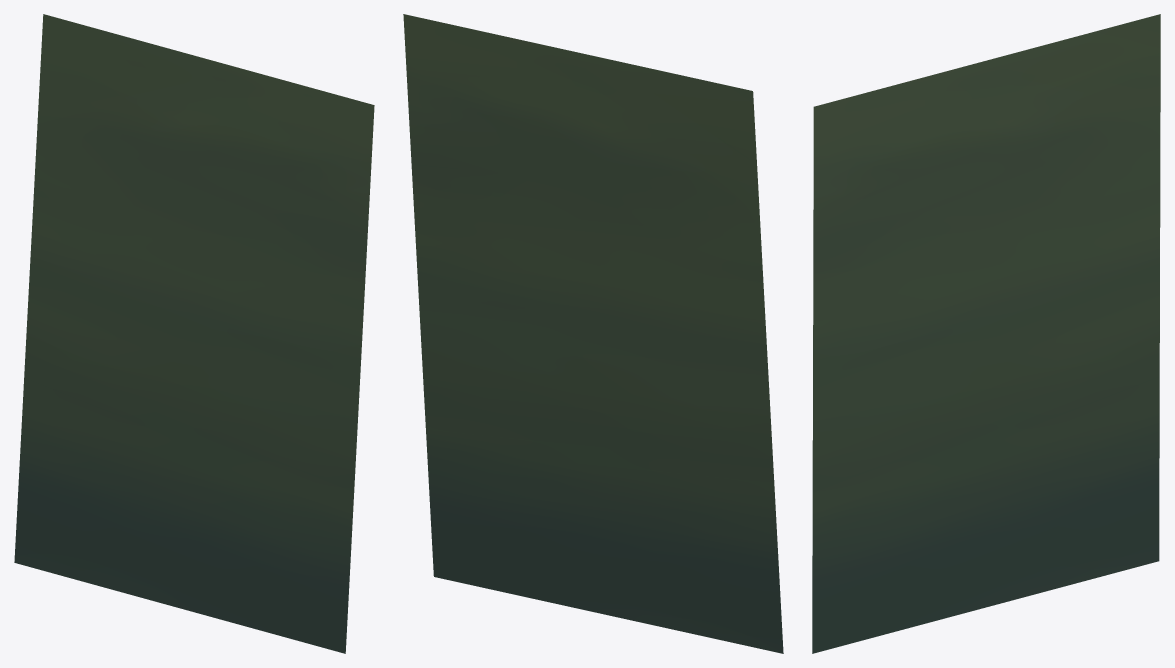
The model's file is pplane44_lambert6_0.005_lev2.glb.
3 renders of one model, left to right at view 1: azimuth 30°, elevation 25°; view 2: azimuth 210°, elevation 25°; view 3: azimuth 270°, elevation 25°, orthographic. The views are drawn at different scales.
Visible parts, largest first — view 1: pplane44_lambert6_0.005_lev2; view 2: pplane44_lambert6_0.005_lev2; view 3: pplane44_lambert6_0.005_lev2.
Part boxes in pixels (<box>): pplane44_lambert6_0.005_lev2: <box>14,14,374,653</box>; pplane44_lambert6_0.005_lev2: <box>403,14,783,653</box>; pplane44_lambert6_0.005_lev2: <box>812,14,1160,653</box>.
Size of the model in its own units: 0.0586 by 0.1588 by 0.0878.
Materials: 1 (1 with a texture image).
